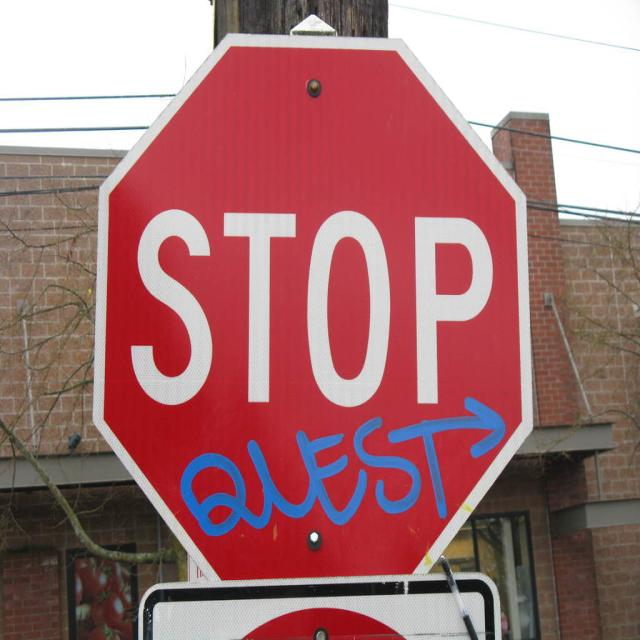Stop-sign: (91, 33, 533, 576)
